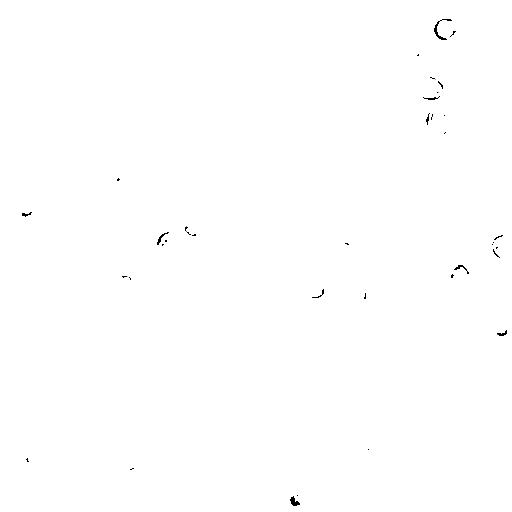micro-algae: (207, 45, 358, 209), (156, 53, 282, 186), (293, 47, 351, 105), (352, 330, 403, 381), (77, 257, 127, 305), (185, 454, 227, 496), (120, 373, 163, 414), (63, 133, 99, 169), (389, 286, 425, 318), (295, 453, 329, 486), (425, 105, 457, 137), (106, 166, 137, 197), (153, 479, 184, 505), (138, 243, 167, 270), (157, 229, 183, 259), (415, 75, 445, 101), (405, 34, 429, 66), (22, 443, 50, 468), (490, 232, 511, 263), (328, 360, 352, 385), (59, 5, 83, 29), (433, 17, 457, 41), (345, 284, 369, 308), (177, 76, 200, 101), (114, 348, 139, 371), (395, 253, 417, 279), (449, 262, 471, 287), (125, 464, 146, 489), (15, 193, 35, 218), (305, 279, 327, 301), (288, 489, 309, 511), (148, 272, 167, 295), (67, 31, 86, 53), (103, 226, 124, 245), (151, 354, 169, 375), (327, 255, 347, 273), (334, 240, 355, 257), (182, 221, 202, 238), (116, 273, 135, 289), (491, 320, 510, 336), (191, 0, 207, 5), (507, 468, 511, 484)
